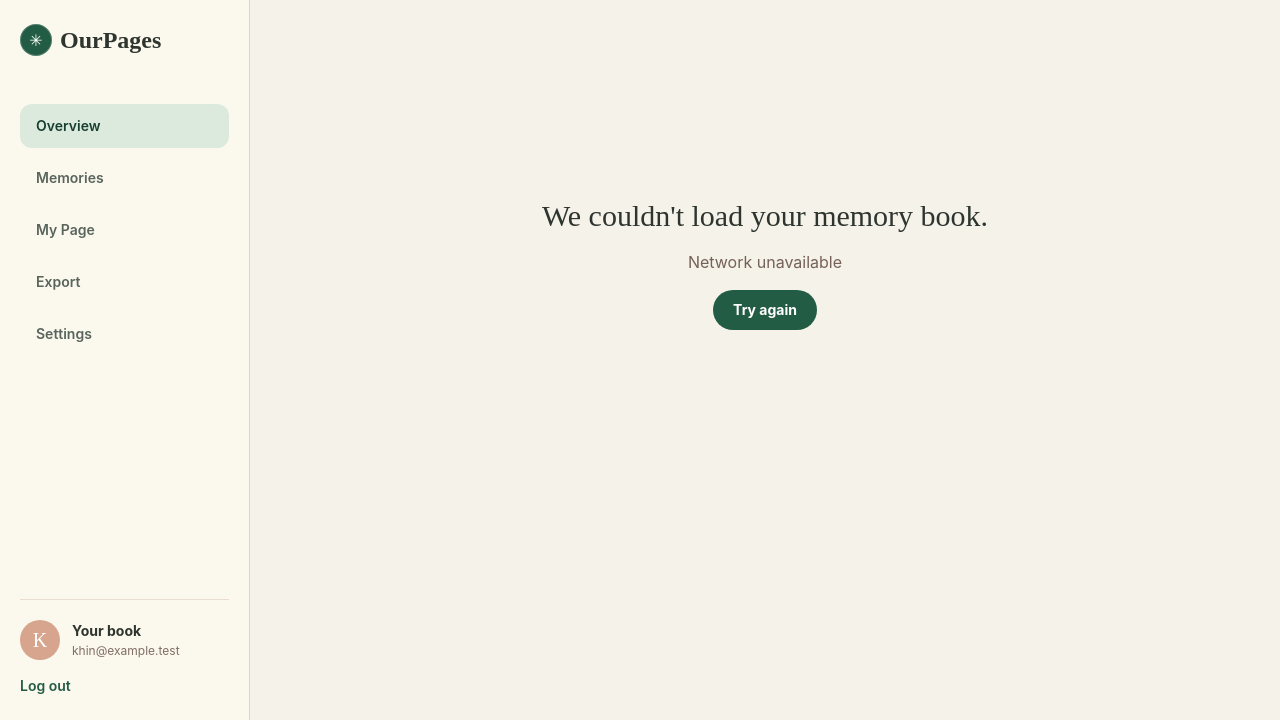
Test case: owner dashboard overview › shows an error and supports retrying
The image size is (1280, 720).
Expected: the message shows "couldn't load", [542, 199, 988, 232]
Click the button "Try again". click: (765, 310)
box: [713, 290, 817, 330]
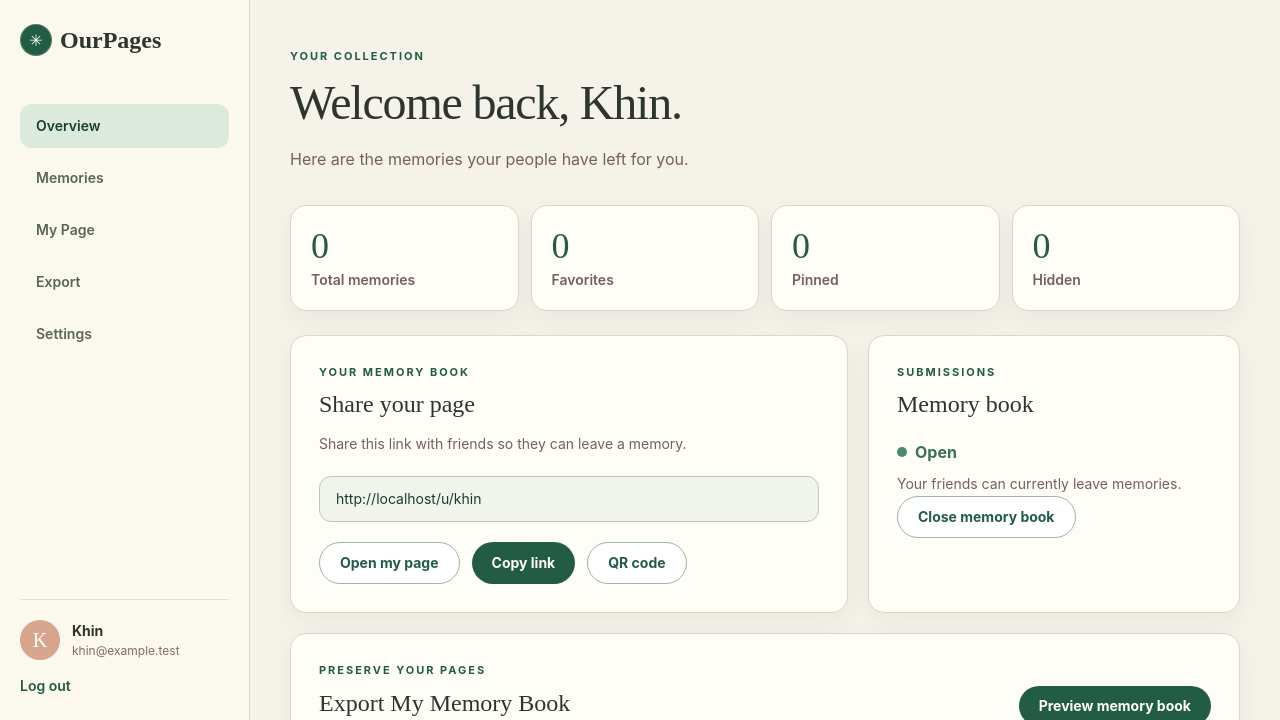
Result: the heading "Welcome back, Khin." is shown at [290, 76, 682, 128]
